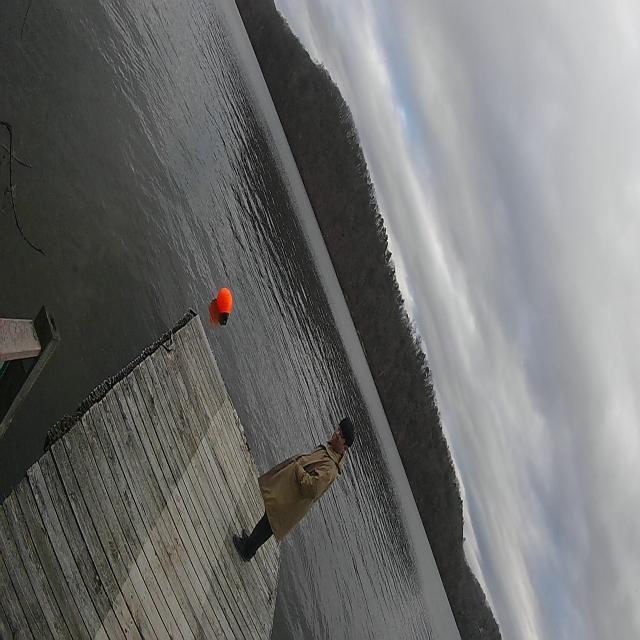Buoy: (215, 282, 234, 330)
